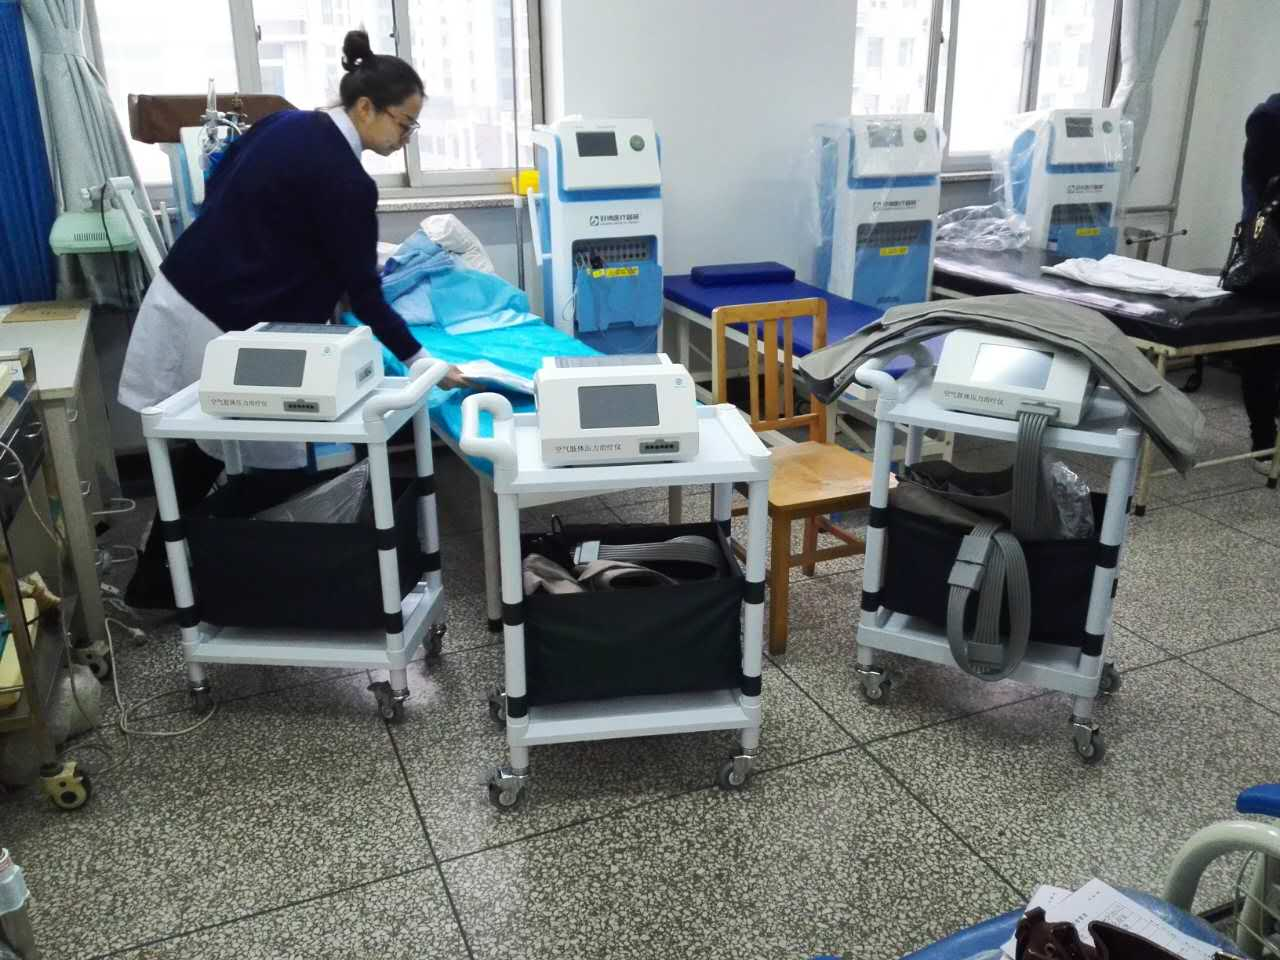chair: (711, 298, 896, 658)
hospital_bed: (341, 234, 689, 630), (933, 224, 1280, 515), (662, 269, 1018, 460)
staff: (113, 27, 467, 468)
utility_cart: (852, 300, 1144, 762), (459, 394, 763, 820), (143, 356, 454, 721)
ventilator: (521, 114, 668, 357), (819, 110, 950, 307), (1008, 95, 1128, 256)
